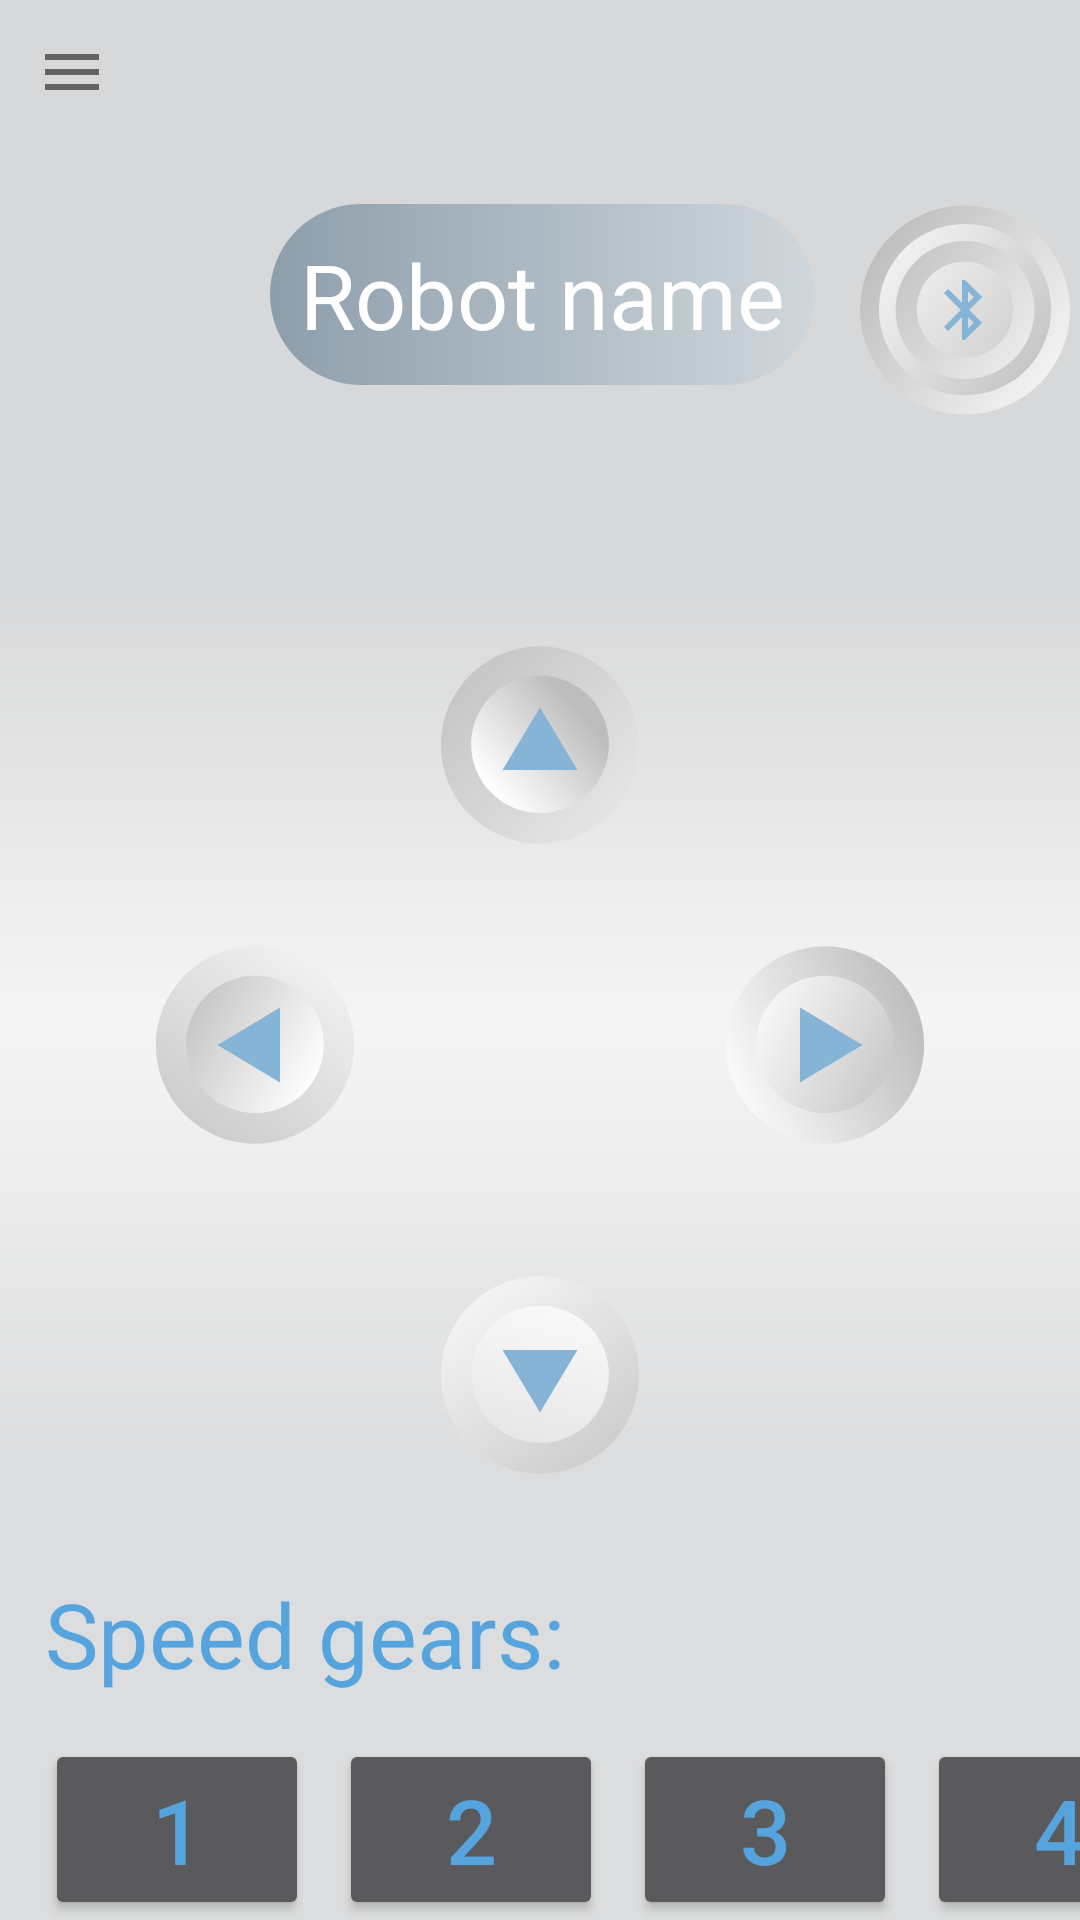

Icons on this 1080w x 1920h Android screen, each with the point to tap as point (x, y):
arrow drop down: point (549, 1359)
arrow drop up: point (540, 744)
arrow left: point (219, 1059)
arrow right: point (862, 1035)
menu: point (72, 72)
